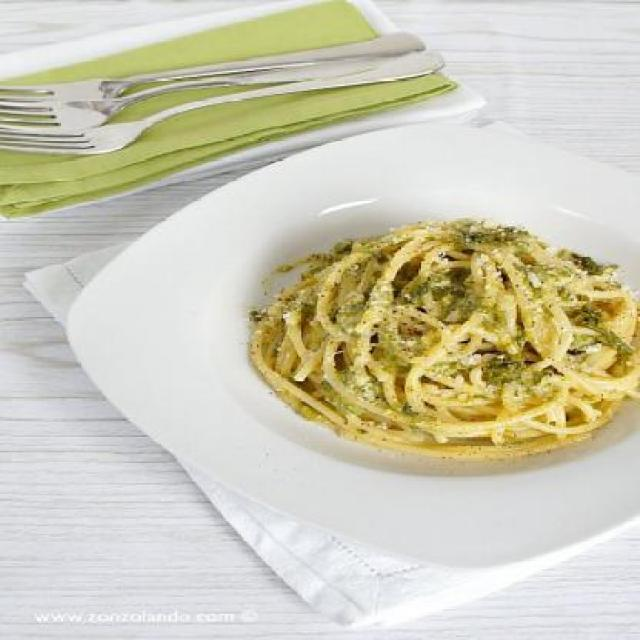Pasta with carbonara sauce: (211, 184, 638, 507)
